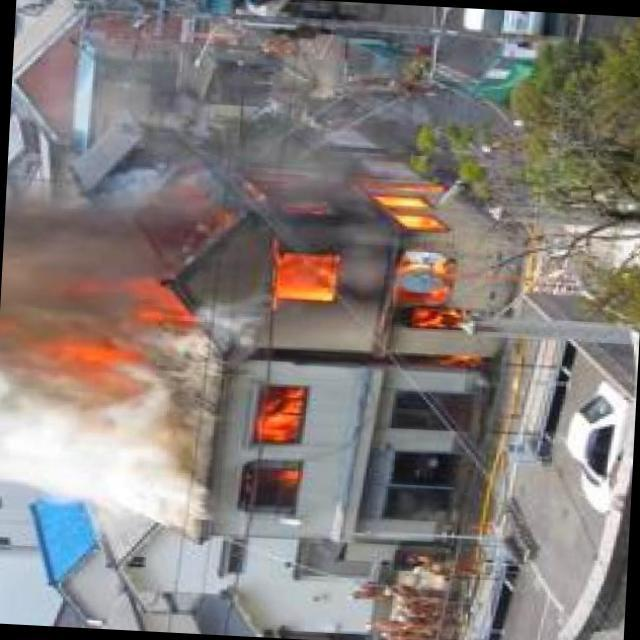Fire: (227, 176, 504, 376), (34, 272, 192, 405), (254, 389, 309, 493)
